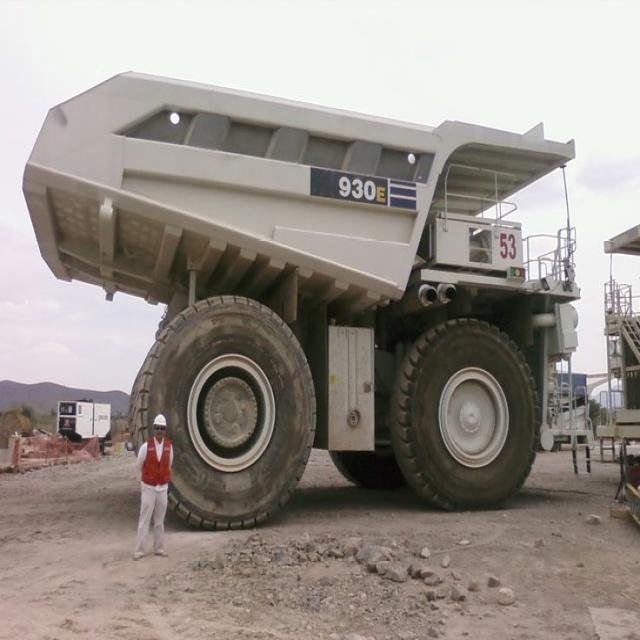dump_truck: (14, 51, 582, 525)
